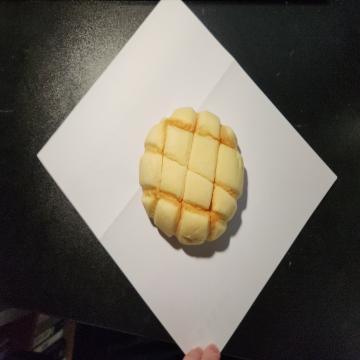melon_bread: (138, 107, 243, 248)
